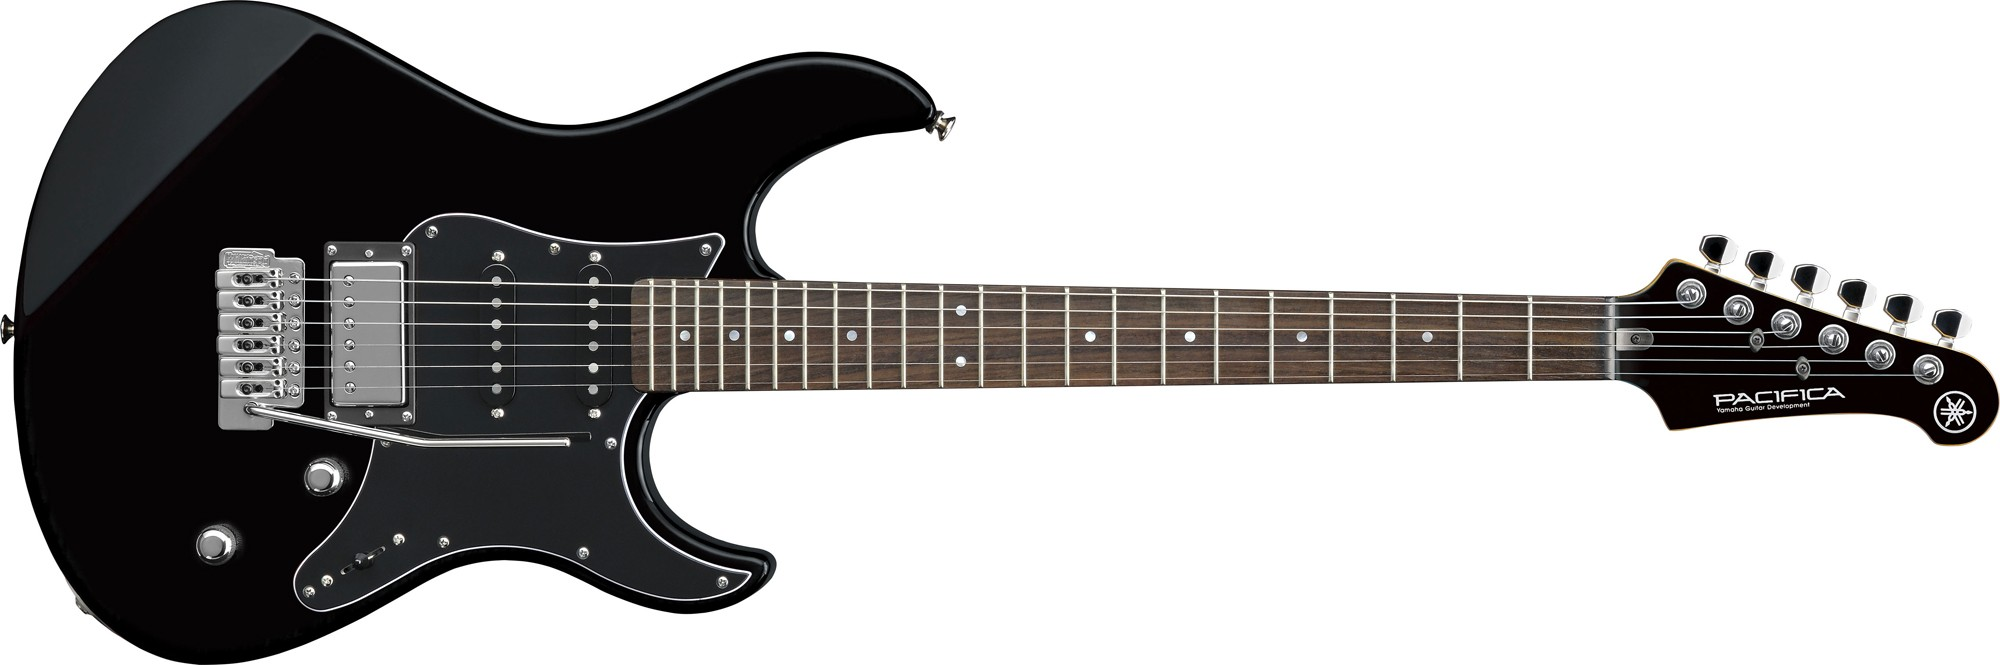ElectricGuitar: (19, 17, 2000, 661)
